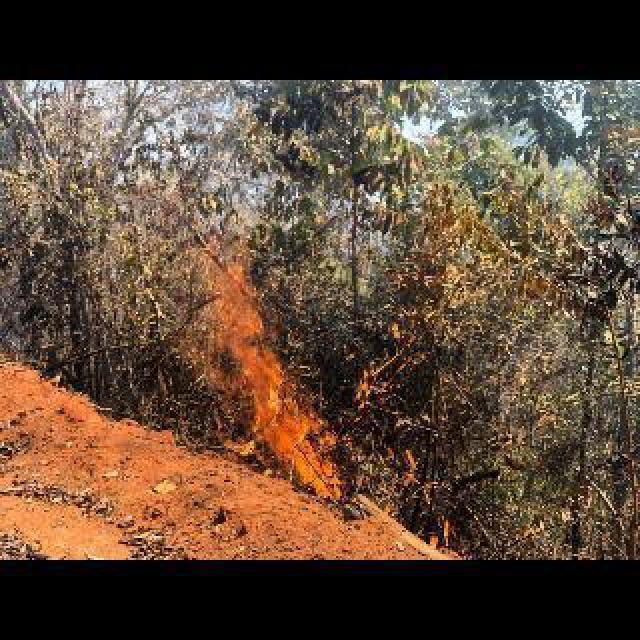zfire: (204, 262, 352, 500)
